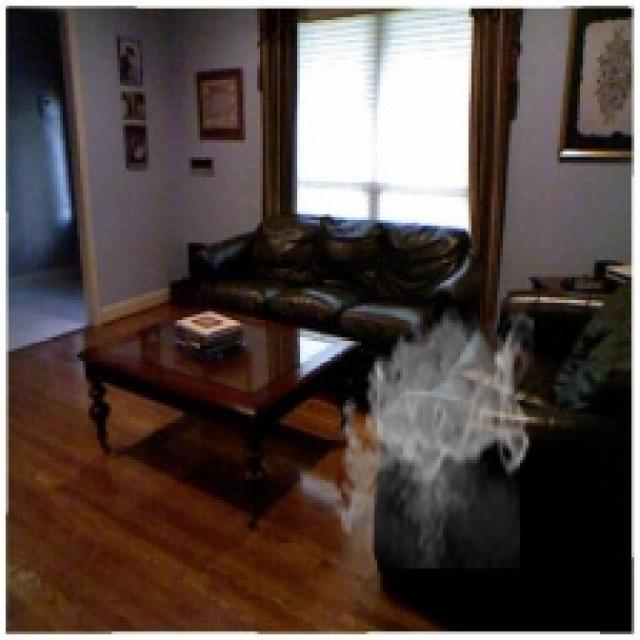Smoke: (328, 302, 534, 568)
